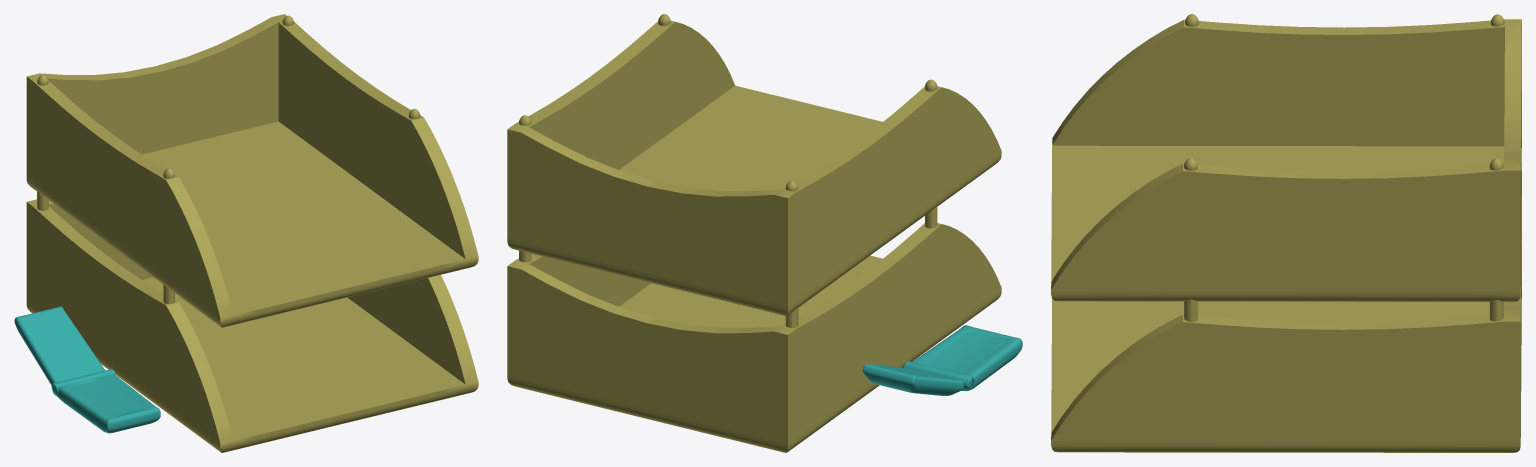
The model's file is MOD_DeskItems.fbx.
The picture shows the model from 3 angles, left to right: view 1: azimuth 30°, elevation 25°; view 2: azimuth 150°, elevation 25°; view 3: azimuth 270°, elevation 25°; orthographic projection. The views are drawn at different scales.
Visible parts, largest first — view 1: FileTray_Ready, Phone_Ready; view 2: FileTray_Ready, Phone_Ready; view 3: FileTray_Ready.
Boxes of the visible parts, x1,y1,x2,y2 form: FileTray_Ready: (26,14,478,452); Phone_Ready: (14,306,160,433); FileTray_Ready: (507,14,1001,452); Phone_Ready: (863,325,1022,395); FileTray_Ready: (1051,14,1521,452).
Bounding box in the file's own units: 1.16 × 0.8283 × 1.2.
